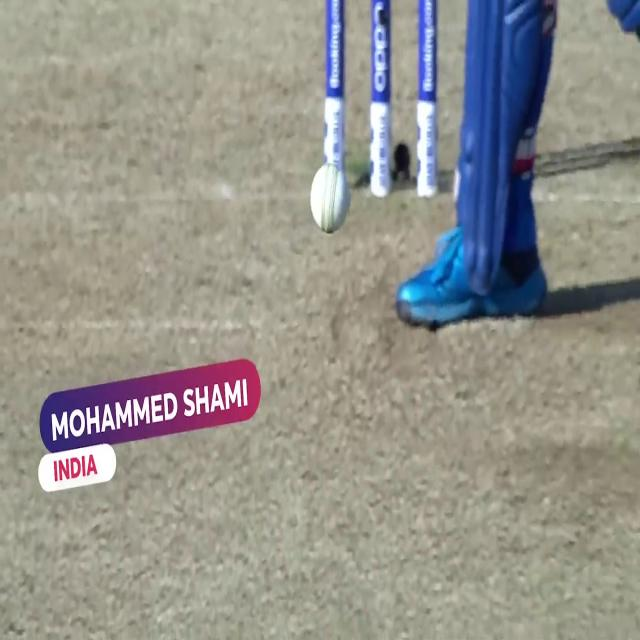ball: (308, 164, 352, 237)
